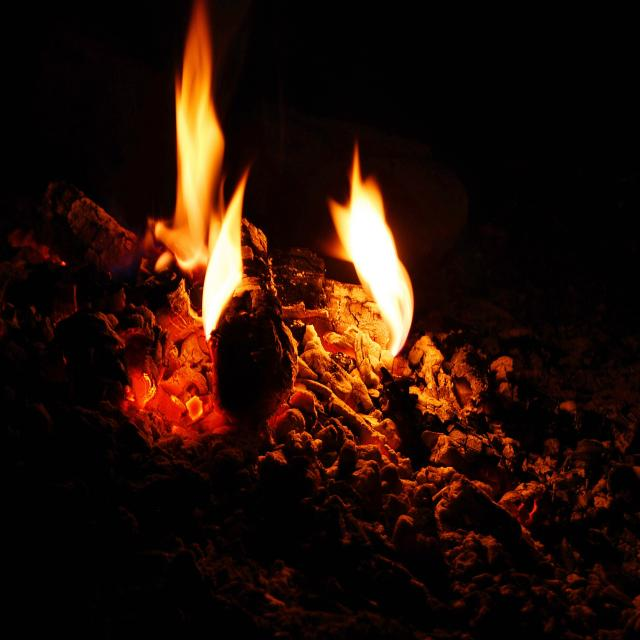fire: (316, 147, 414, 373), (169, 0, 241, 277), (201, 171, 271, 378)
